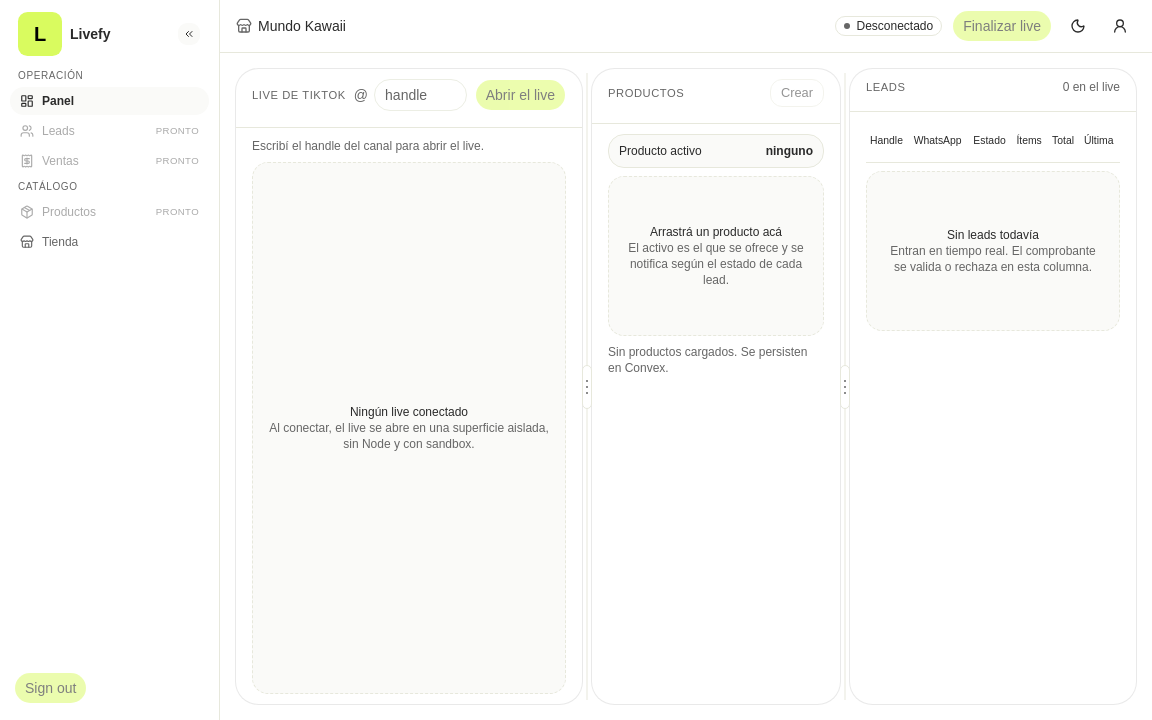
panel — the live surface › ends the loading caption as soon as the document is ready
Step 1. Type "mundokawaii" into the field named "Canal de TikTok" → (420, 95), box [374,79,467,111]
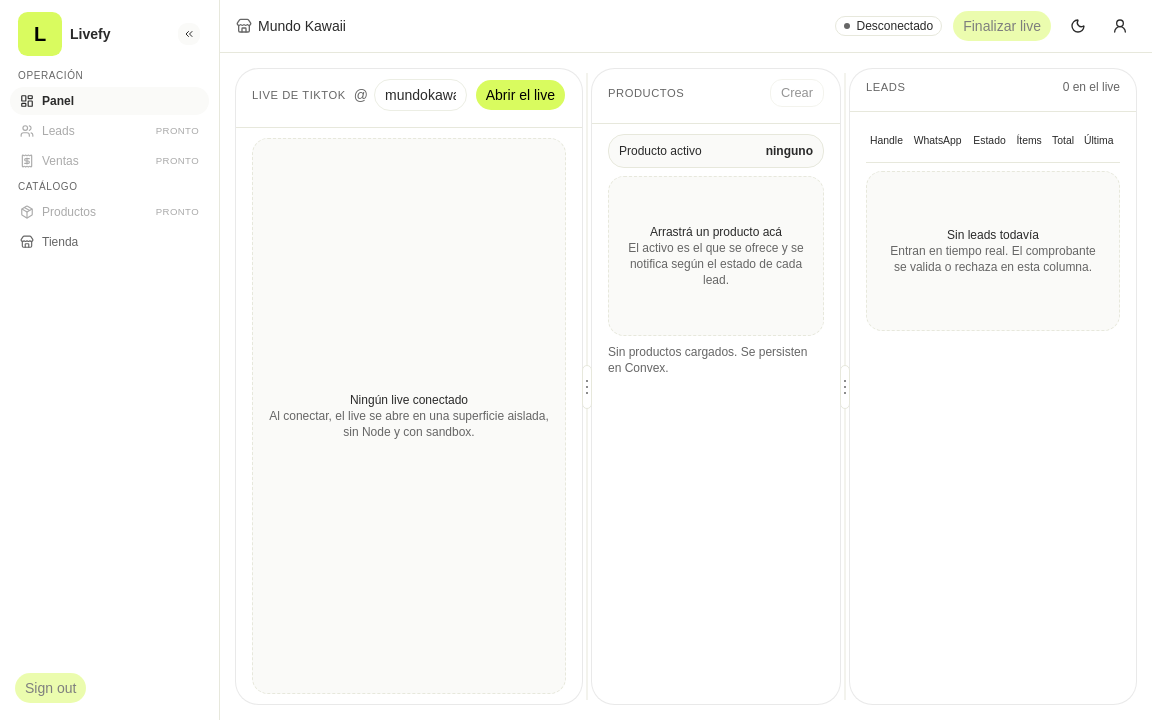
Step 2. Click the button "Abrir el live" → (520, 95), box [475,79,566,111]
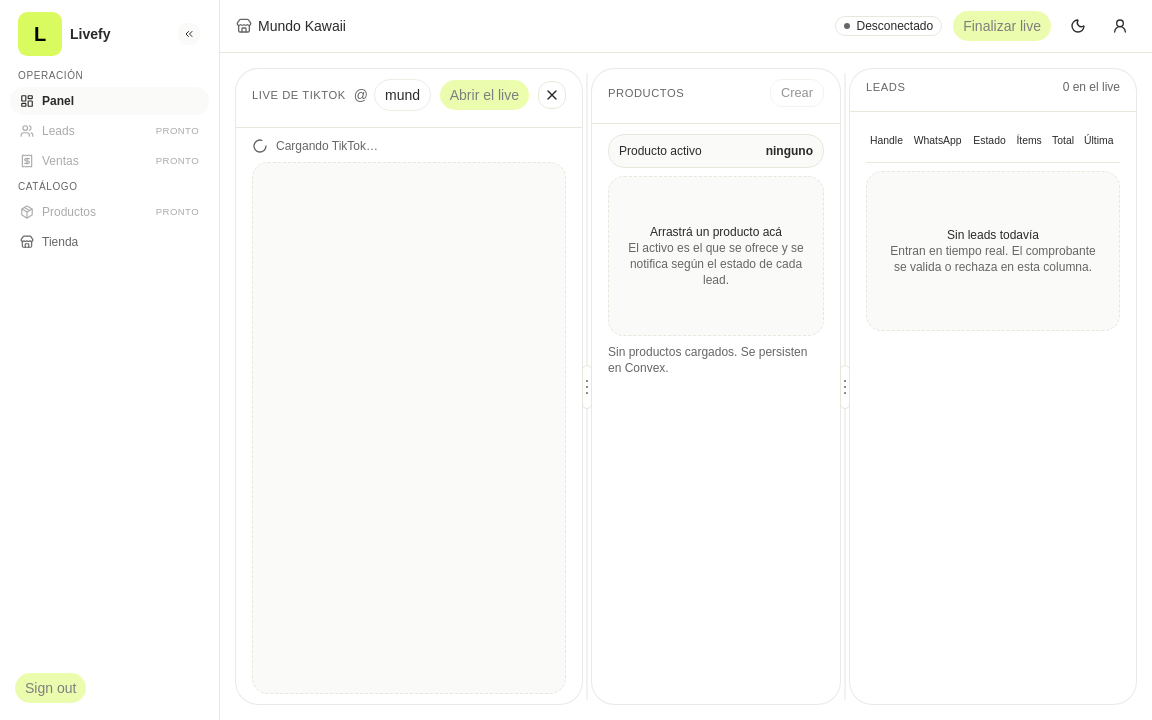
expect the text "Cargando TikTok…" is shown: met, box [252,138,378,154]
